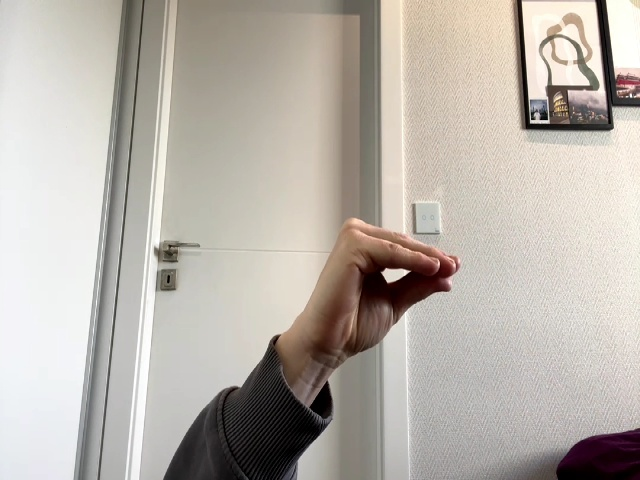E: (301, 218, 460, 380)
